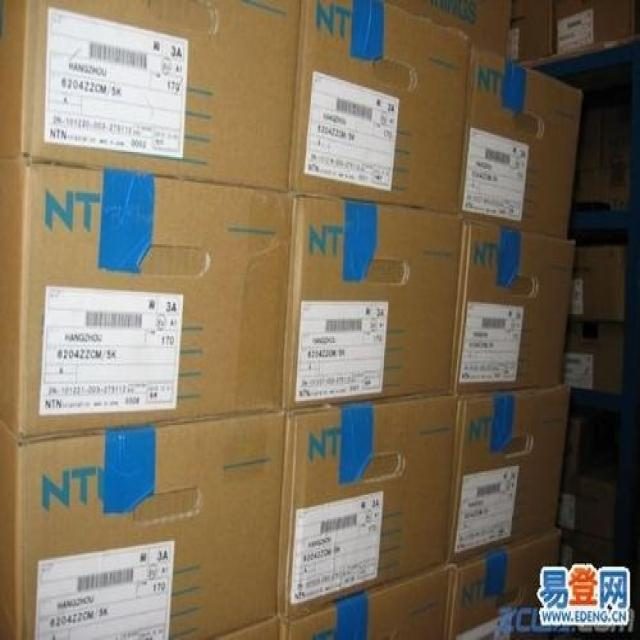box: (0, 158, 293, 440), (0, 412, 287, 638), (0, 3, 302, 192), (277, 395, 456, 621), (293, 1, 474, 215), (285, 200, 462, 411), (458, 43, 582, 239), (454, 221, 574, 395), (447, 387, 565, 561), (536, 63, 638, 247), (281, 559, 448, 638), (557, 389, 638, 545), (448, 533, 553, 637), (552, 0, 639, 57), (560, 321, 623, 393), (566, 247, 625, 323)
